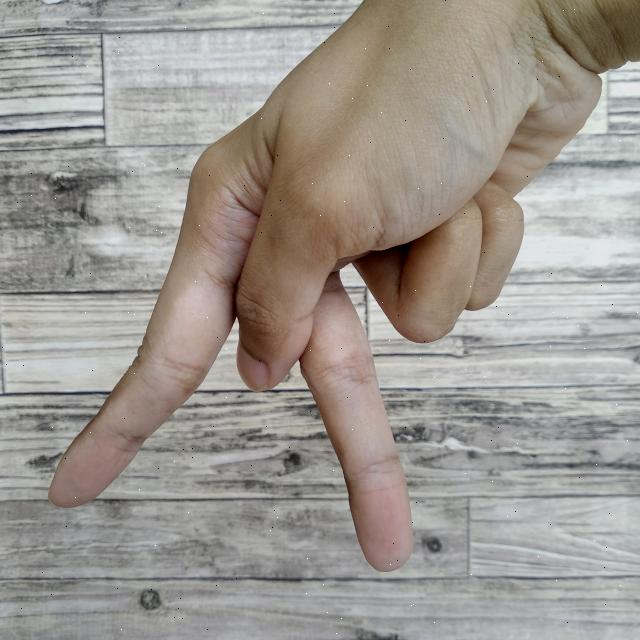P: (43, 0, 640, 575)
